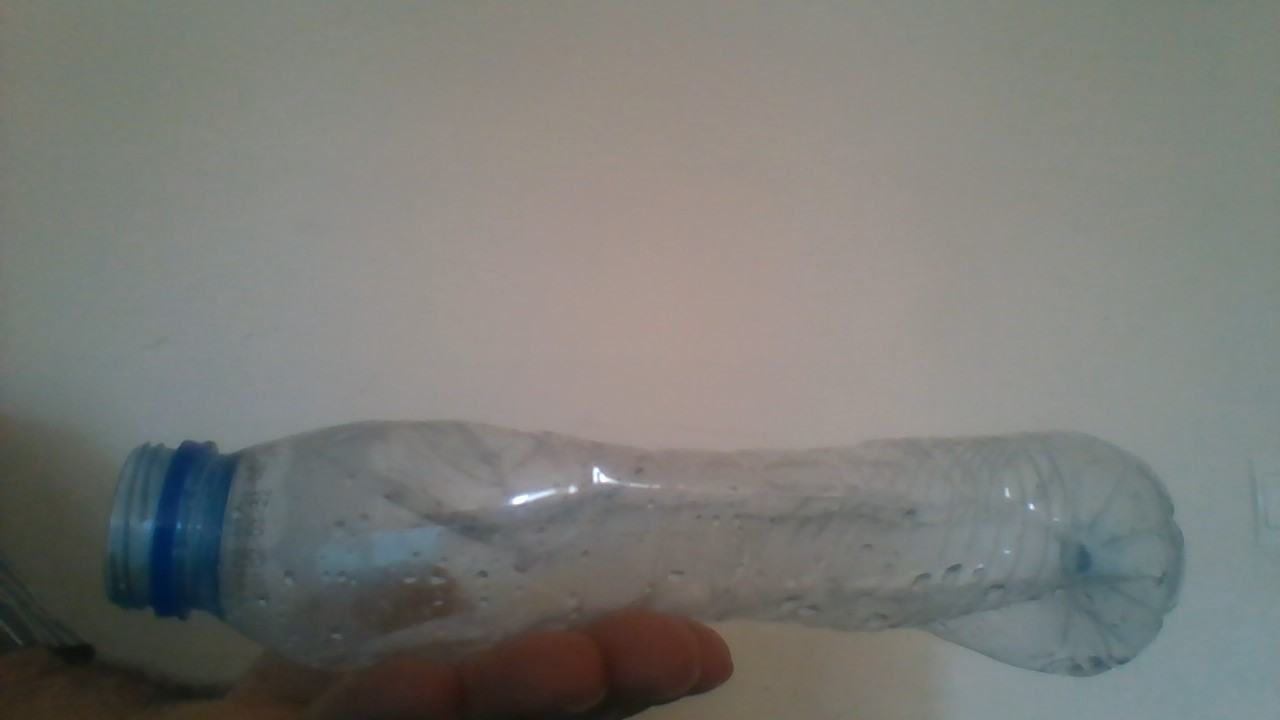plastic: (98, 391, 1200, 693)
